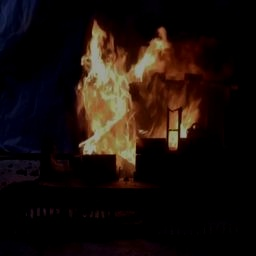fire: (67, 16, 220, 183)
